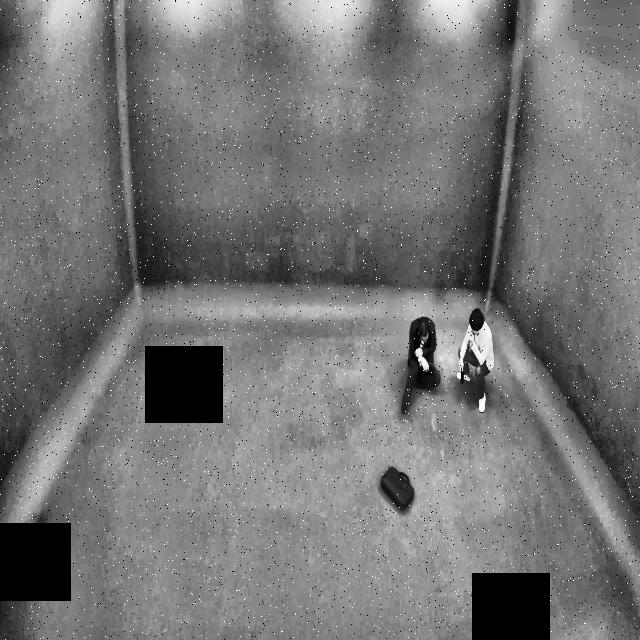assult: (395, 294, 500, 429)
